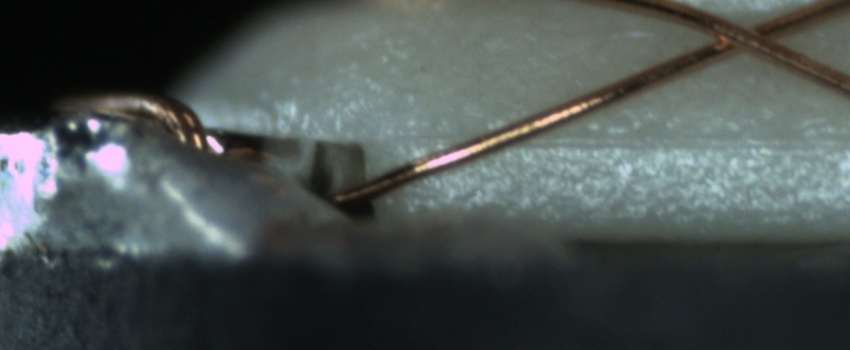CL: (693, 5, 789, 63)
DL: (378, 108, 850, 169)
TE: (58, 84, 219, 168)
